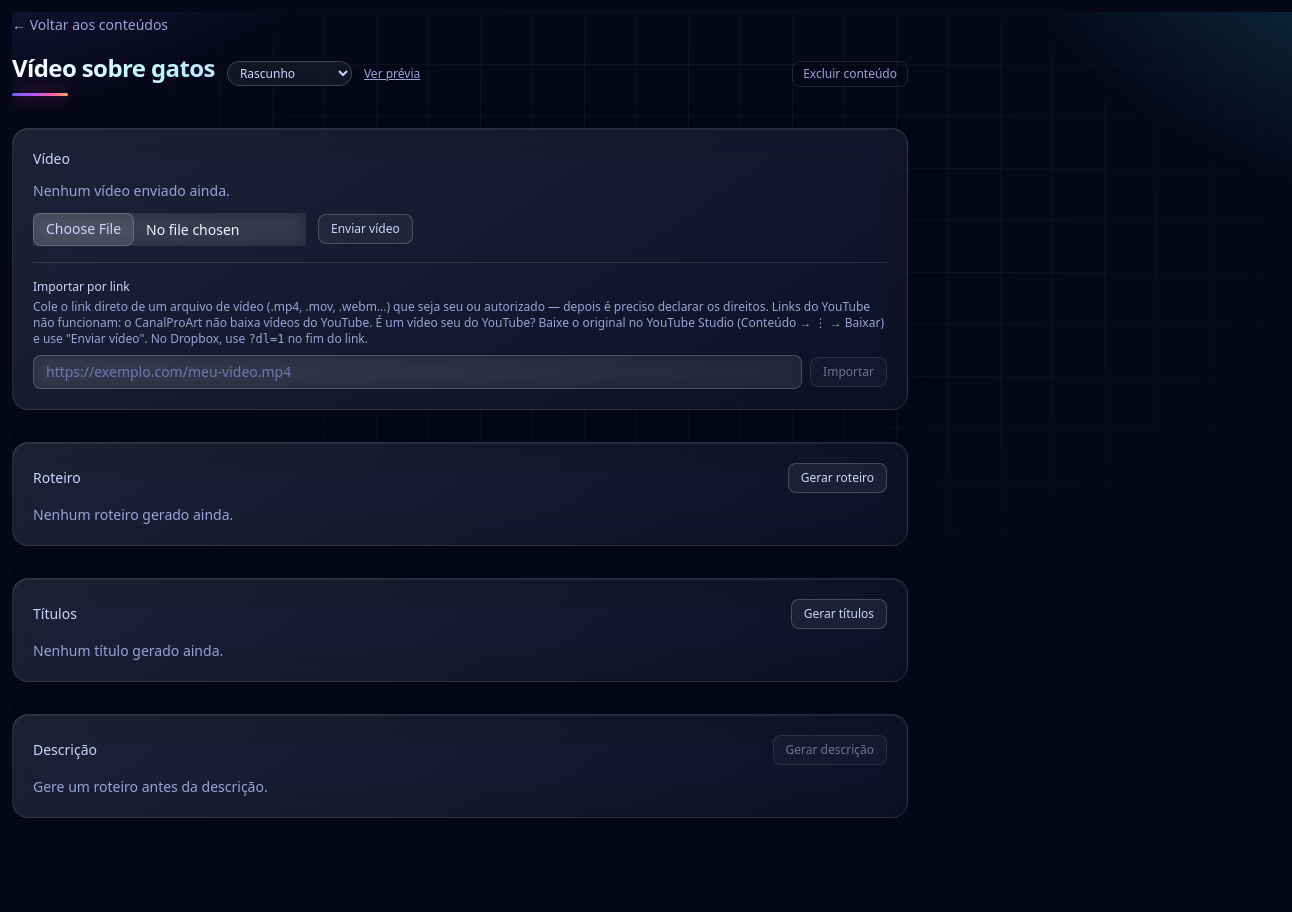
Test case: ContentProjectDetailPage › importar por link › mostra o erro do servidor e mantém o link digitado pra corrigir
Type "https://youtube.com/watch?v=abc" into the field named "Link do vídeo" at (418, 372), box [33,355,802,389]
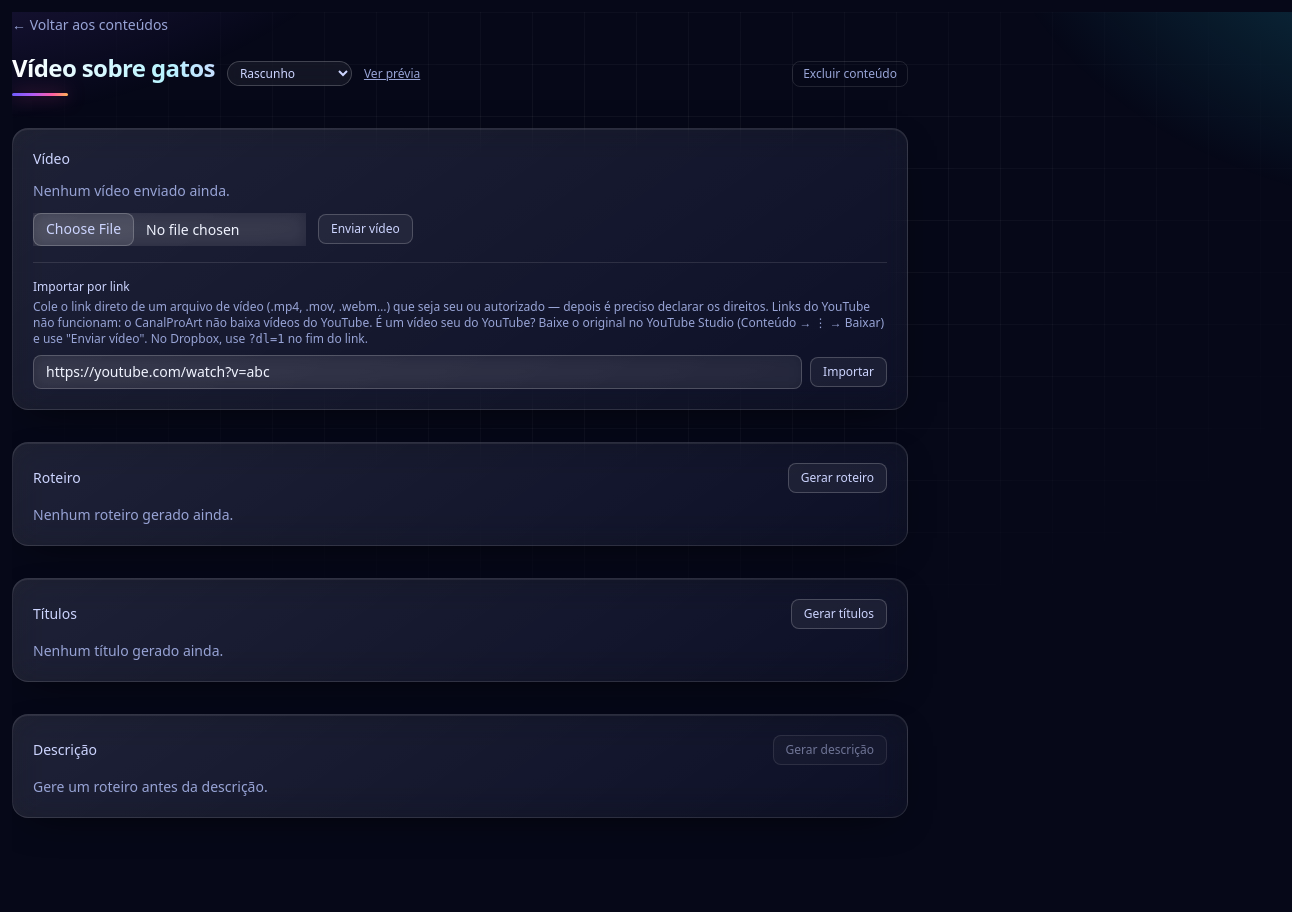
Click the button "Importar" at (849, 372), box [810,357,887,387]
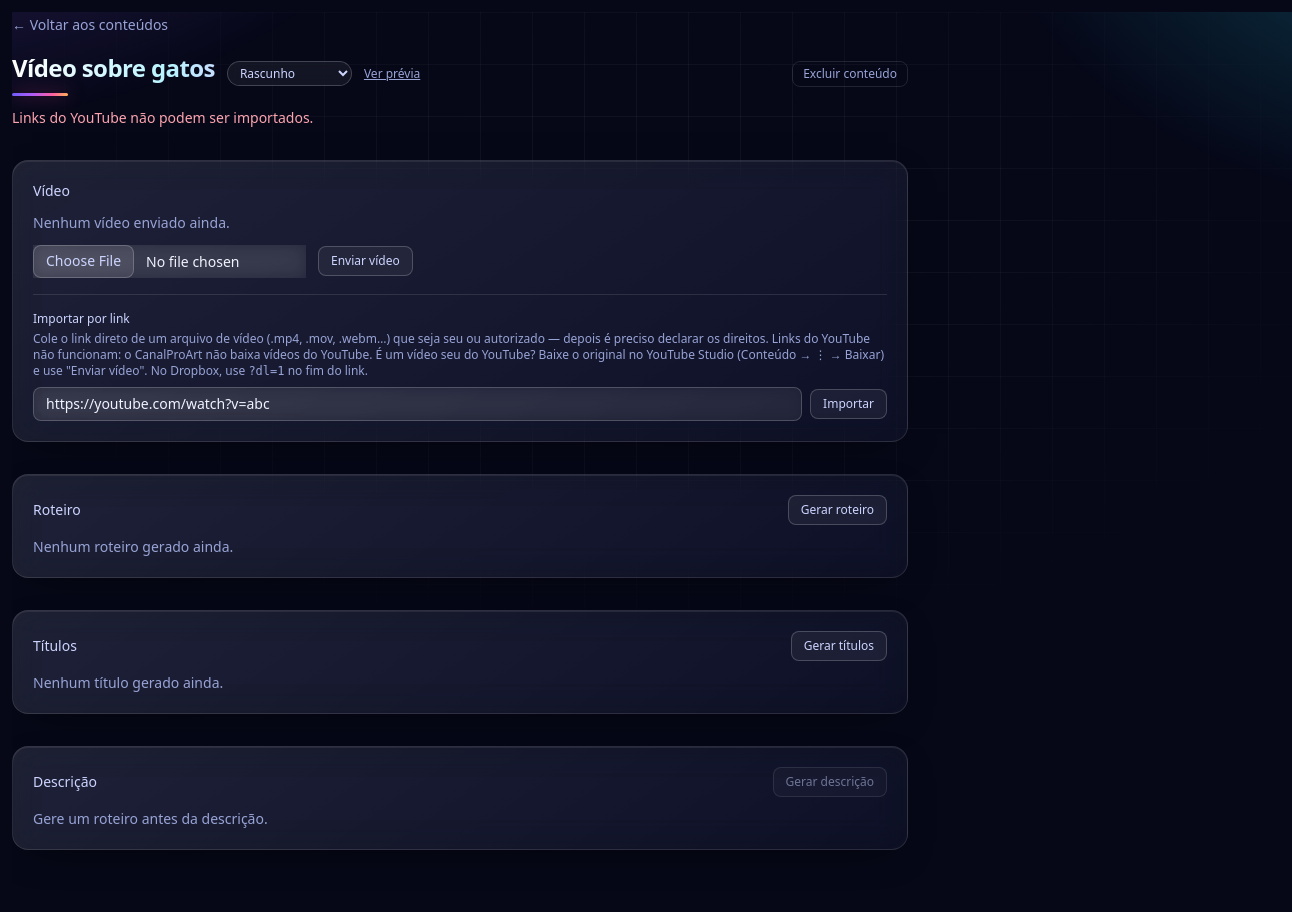
Check: the text "Nenhum vídeo enviado ainda." is shown, box [33,213,230,232]
Check: the text "Links do YouTube não podem ser importados." is shown, box [12,108,313,127]
